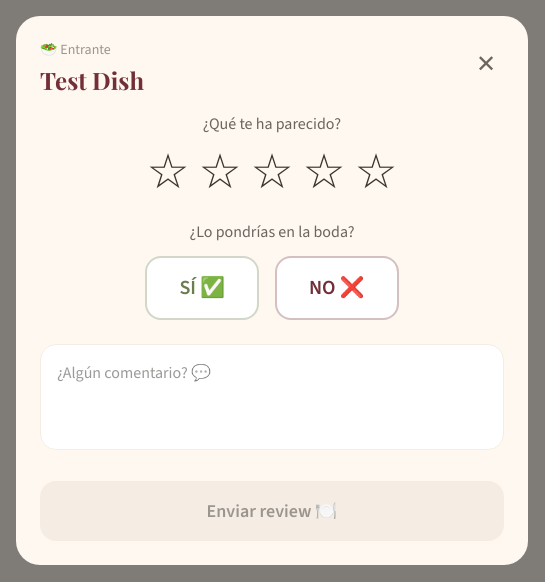
Test: ReviewModal › submit button enabled after selecting stars and wedding worthy
Click 4 stars
Click the button named "4 estrellas".
click(324, 172)  # box [300,148,348,196]
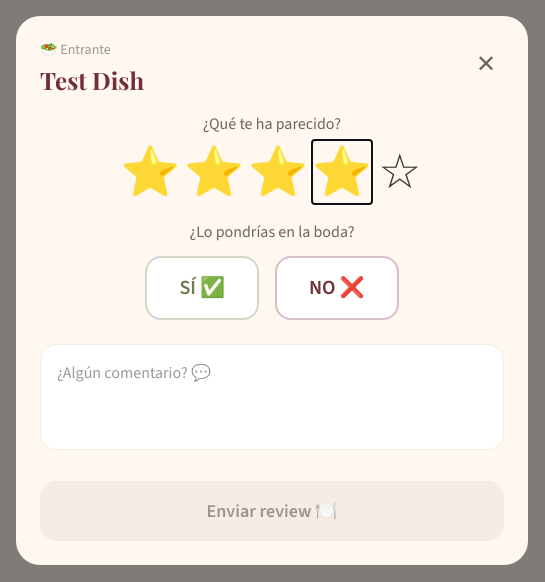
Click SÍ
Click the button "SÍ ✅".
click(202, 288)  # box [146,256,259,320]
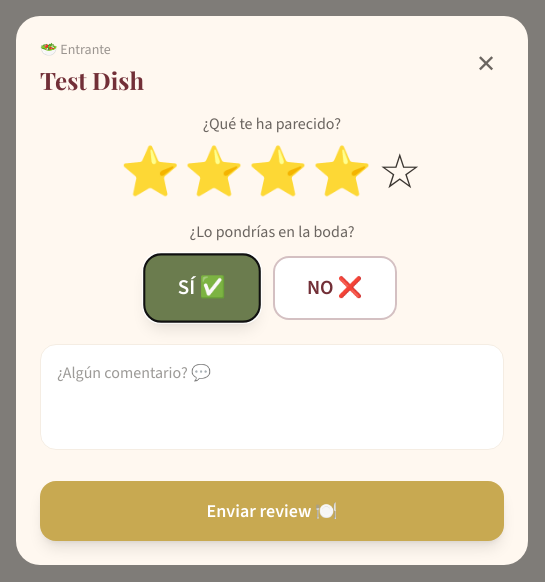
Result: the button "Enviar review 🍽️" is enabled at [40,480,504,540]
